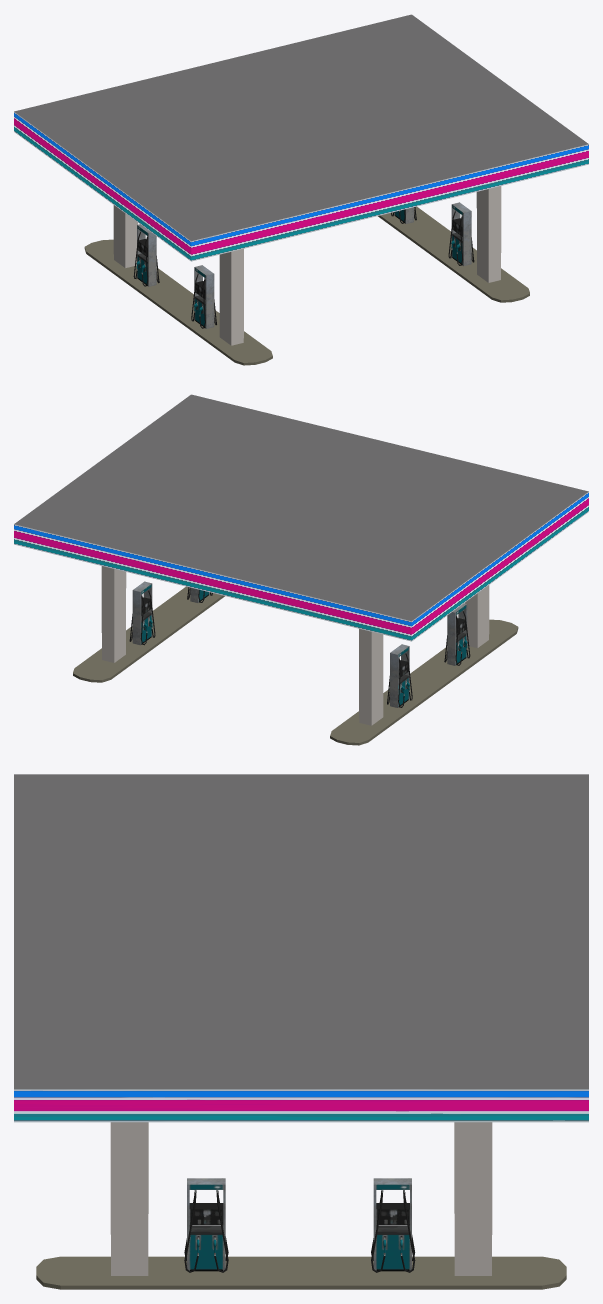
File: gas_canopy.glb
3 views of the same model, one above another, from view 1: azimuth 30°, elevation 25°; view 2: azimuth 150°, elevation 25°; view 3: azimuth 270°, elevation 25° (orthographic). The views are drawn at different scales.
Visible parts, largest first — view 1: The_ceiling, Sidewalk_01, Pillar_01, Sidewalk, Pillar, Fuel_pump, Fuel_pump_02, Fuel_pump_03; view 2: The_ceiling, Sidewalk_01, Pillar_01, Sidewalk, Pillar, Fuel_pump_01, Fuel_pump_03, Fuel_pump_02; view 3: The_ceiling, Sidewalk, Pillar, Fuel_pump, Fuel_pump_01.
Part boxes in pixels (<box>): The_ceiling: <box>14,14,588,261</box>; Sidewalk_01: <box>84,239,272,365</box>; Pillar_01: <box>113,205,243,345</box>; Sidewalk: <box>378,206,529,302</box>; Pillar: <box>476,186,501,282</box>; Fuel_pump: <box>448,202,474,266</box>; Fuel_pump_02: <box>191,265,216,328</box>; Fuel_pump_03: <box>133,224,159,286</box>; The_ceiling: <box>14,394,588,641</box>; Sidewalk_01: <box>330,619,518,745</box>; Pillar_01: <box>359,585,489,725</box>; Sidewalk: <box>73,586,224,682</box>; Pillar: <box>101,566,126,662</box>; Fuel_pump_01: <box>129,581,155,645</box>; Fuel_pump_03: <box>387,644,412,707</box>; Fuel_pump_02: <box>444,603,470,665</box>; The_ceiling: <box>14,774,588,1122</box>; Sidewalk: <box>36,1256,566,1289</box>; Pillar: <box>110,1122,492,1275</box>; Fuel_pump: <box>184,1178,228,1272</box>; Fuel_pump_01: <box>371,1178,415,1272</box>.
Bounding box in the file's own units: 21.67 × 7.6 × 16.73.
Materials: 7 (2 with a texture image).
